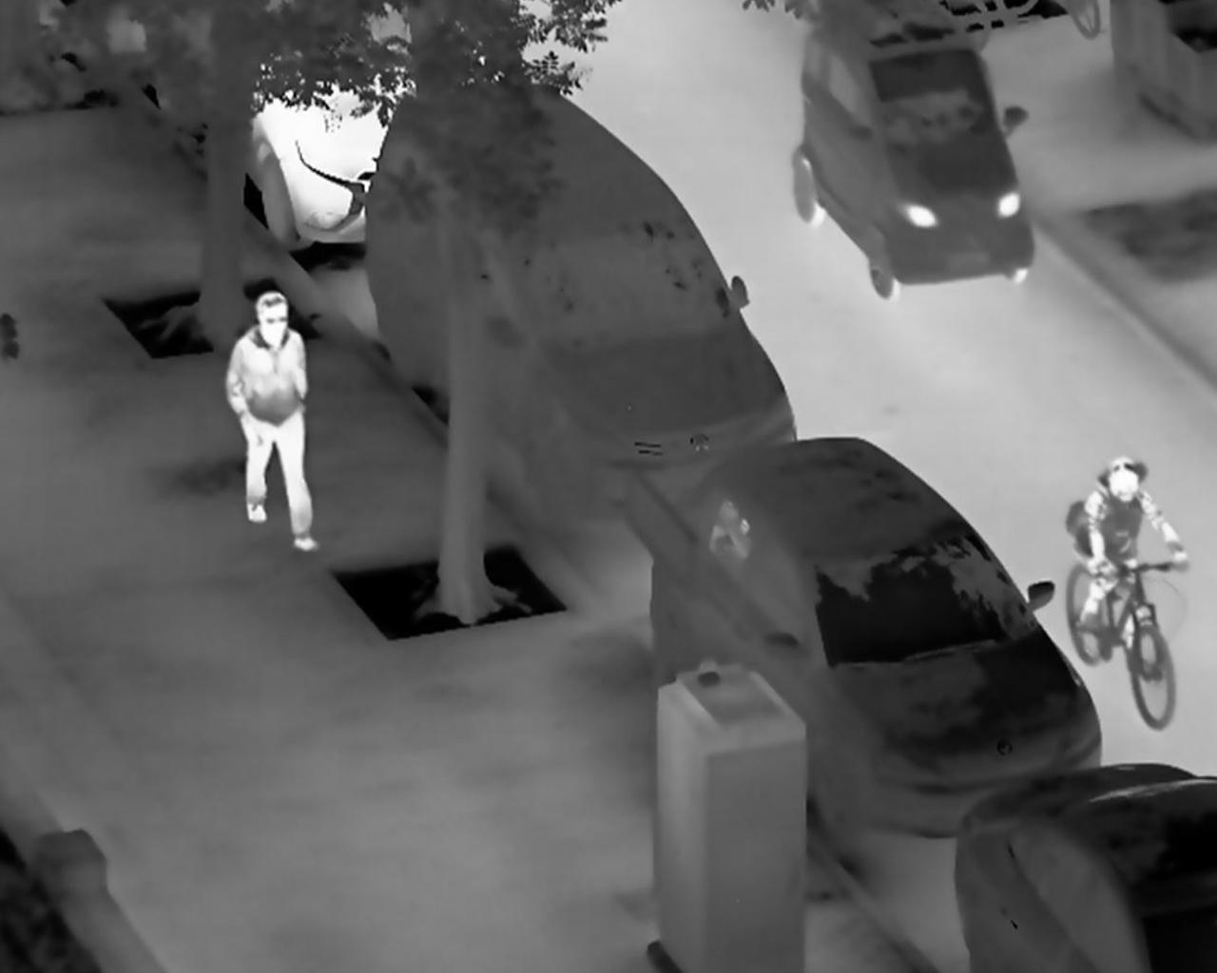person: (222, 290, 319, 553), (1072, 453, 1194, 644)
